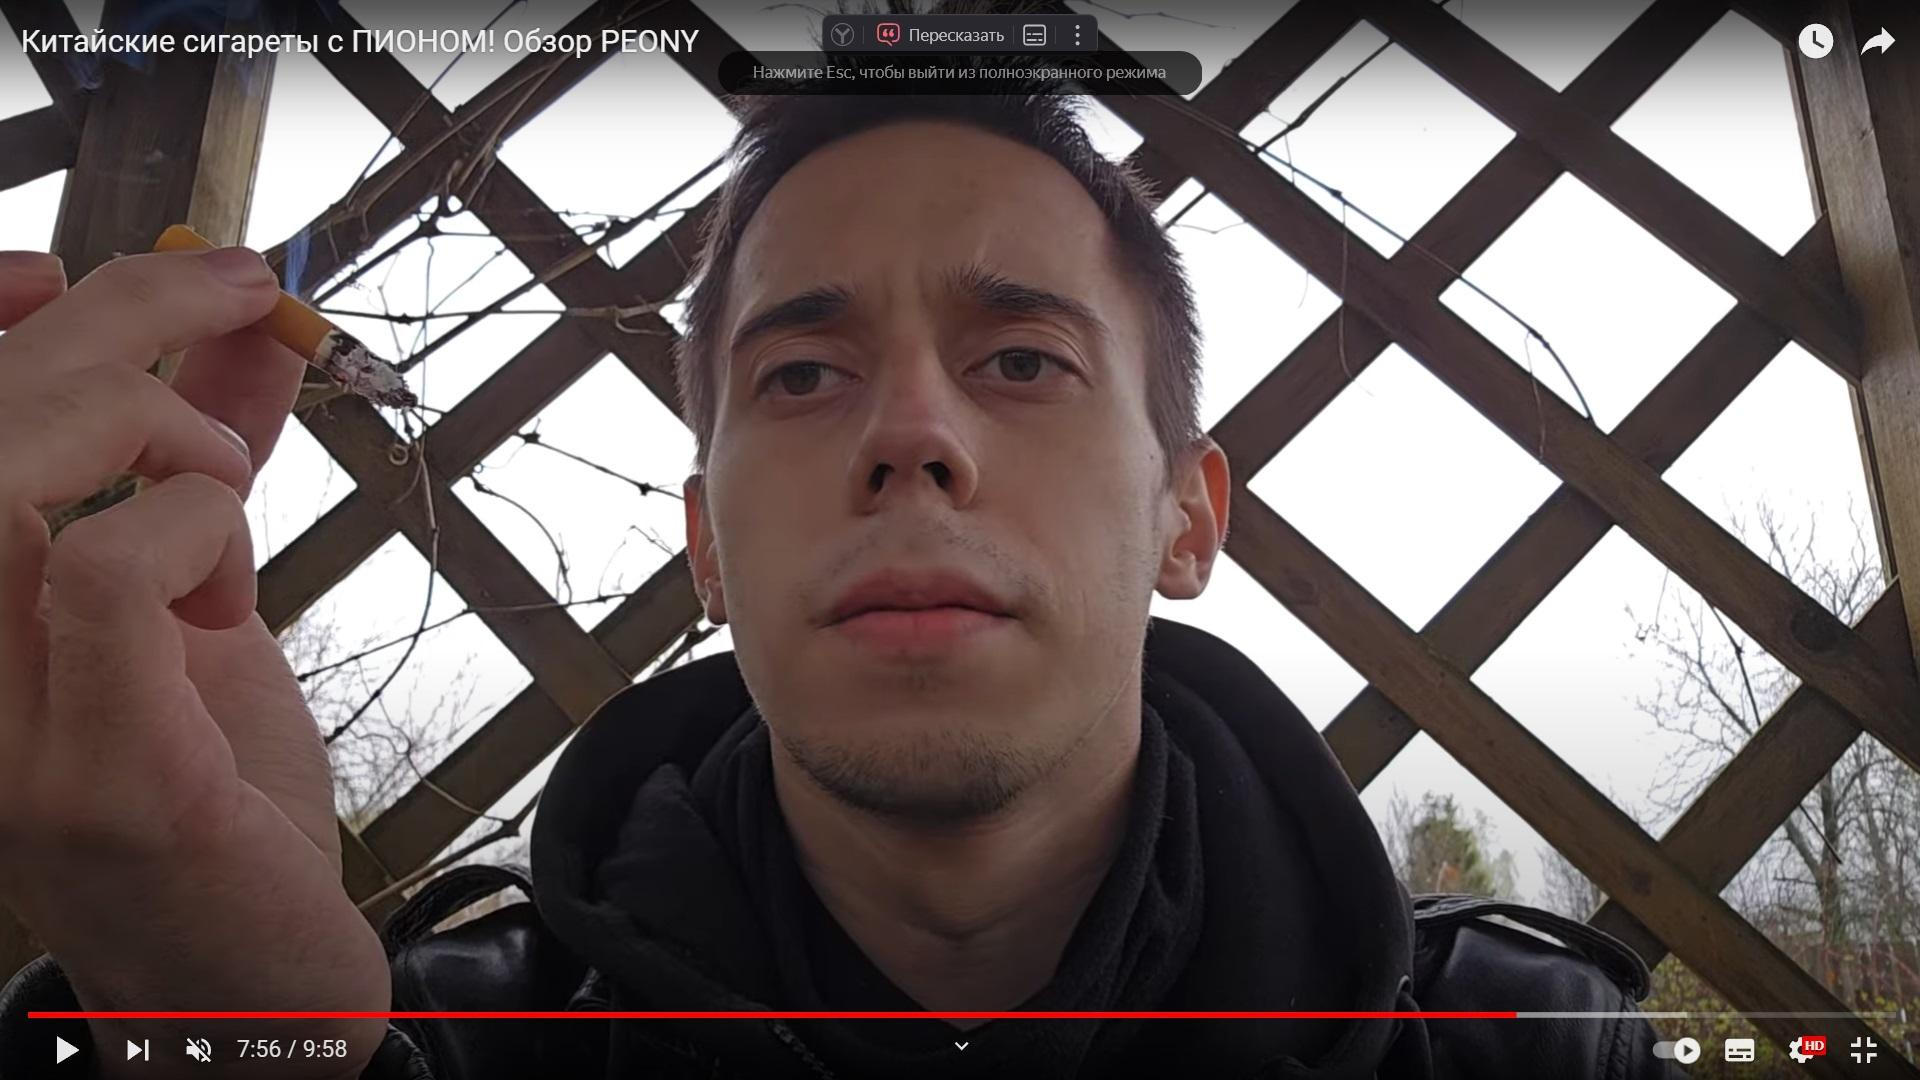cigarette: (146, 225, 418, 409)
